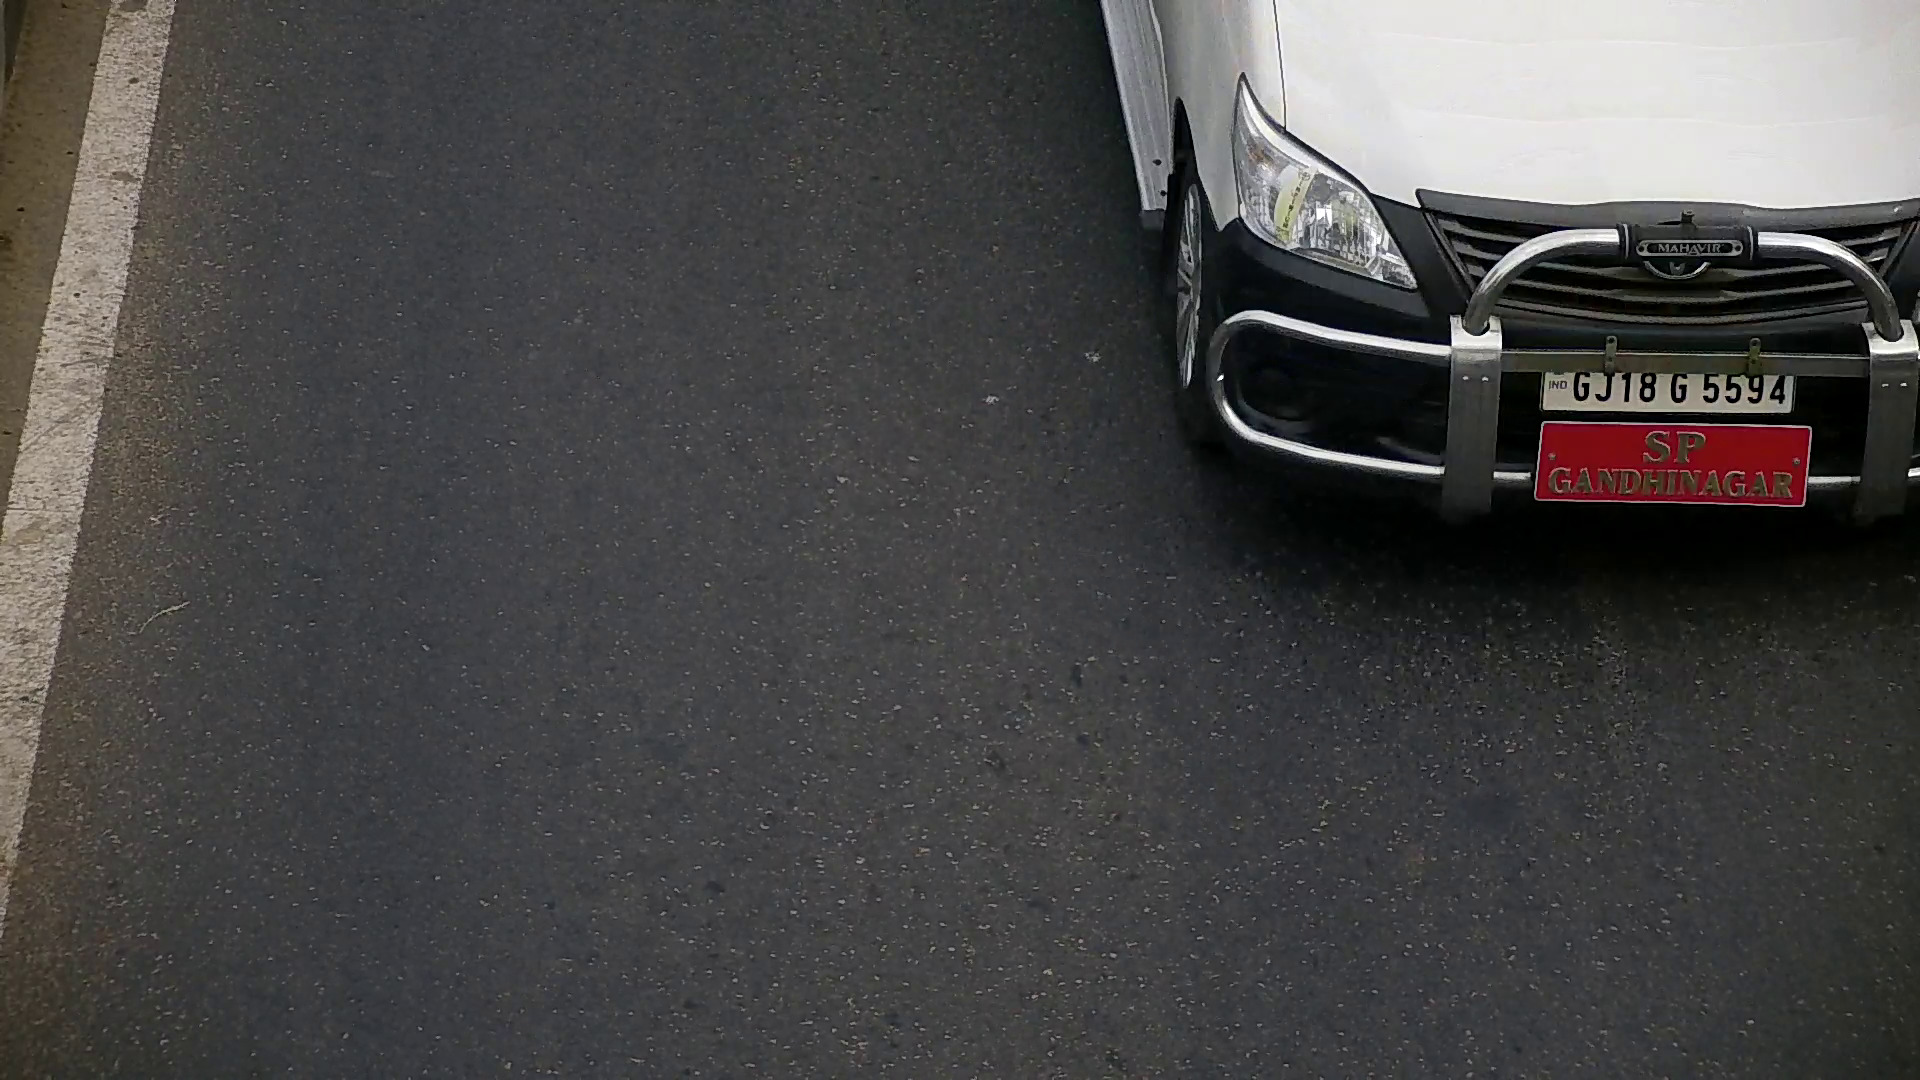numberplate: (1541, 367, 1789, 415)
